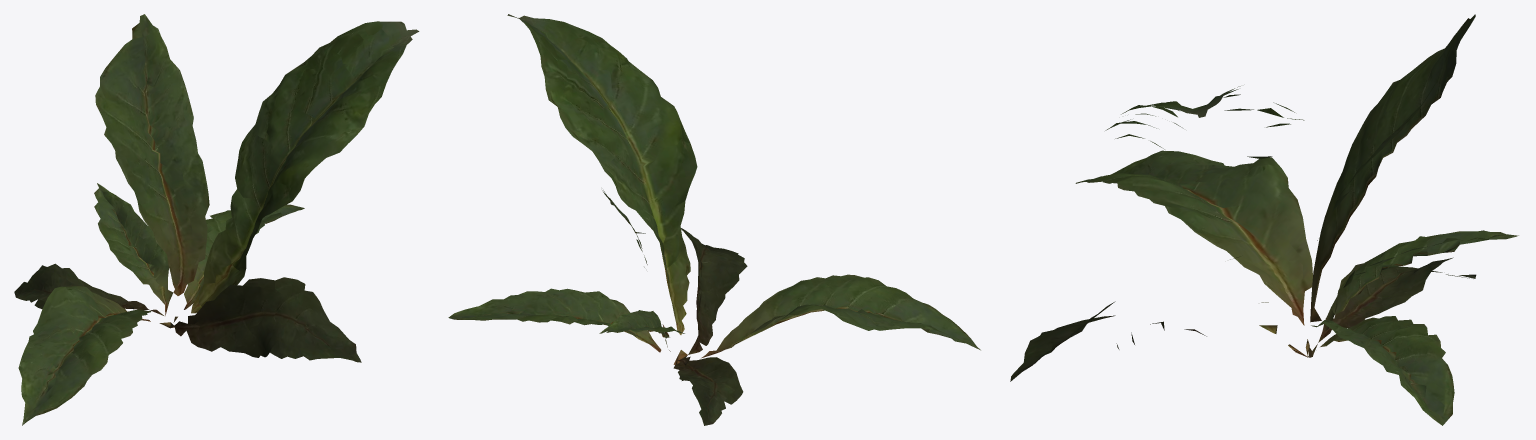
The model's file is antorio_2.glb.
The picture shows the model from 3 angles, left to right: view 1: azimuth 30°, elevation 25°; view 2: azimuth 150°, elevation 25°; view 3: azimuth 270°, elevation 25°; orthographic projection. The views are drawn at different scales.
Parts seen in each view (by area): view 1: antorio; view 2: antorio; view 3: antorio.
Part boxes in pixels (box(x1,y1,x2,y2)): antorio: box(14, 14, 419, 425); antorio: box(448, 14, 980, 425); antorio: box(1010, 14, 1518, 425).
Size of the model in its own units: 0.4763 by 0.2939 by 0.3471.
1 material, 1 textured.
